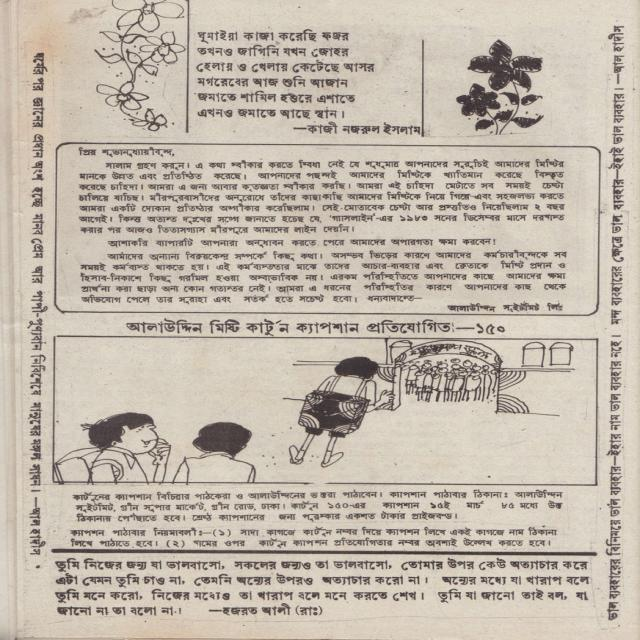image: (54, 337, 599, 485), (62, 0, 187, 136), (438, 37, 548, 137)
paragraph: (72, 157, 570, 235), (51, 550, 597, 619), (76, 245, 573, 307), (64, 485, 569, 524), (189, 23, 383, 120), (601, 21, 631, 627), (65, 525, 561, 552), (27, 49, 46, 568), (95, 231, 501, 250)
text: (281, 121, 425, 139), (69, 144, 187, 159), (446, 300, 566, 313)
title: (111, 314, 516, 338)
